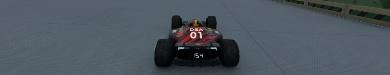Car: (153, 14, 239, 67)
obstacles-Borders: (270, 0, 389, 35)
